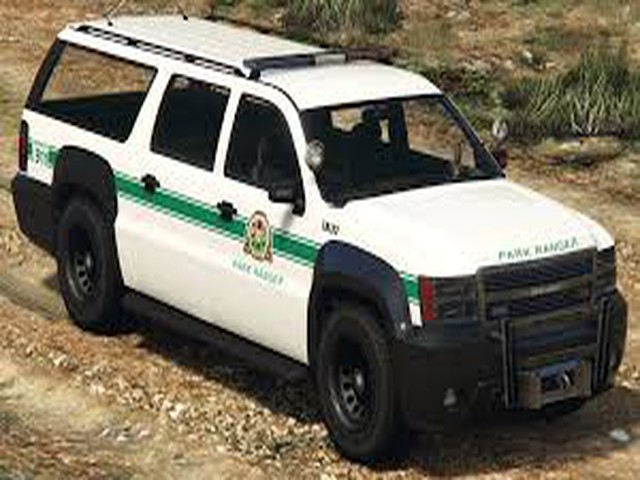Vehicle: (16, 10, 634, 462)
